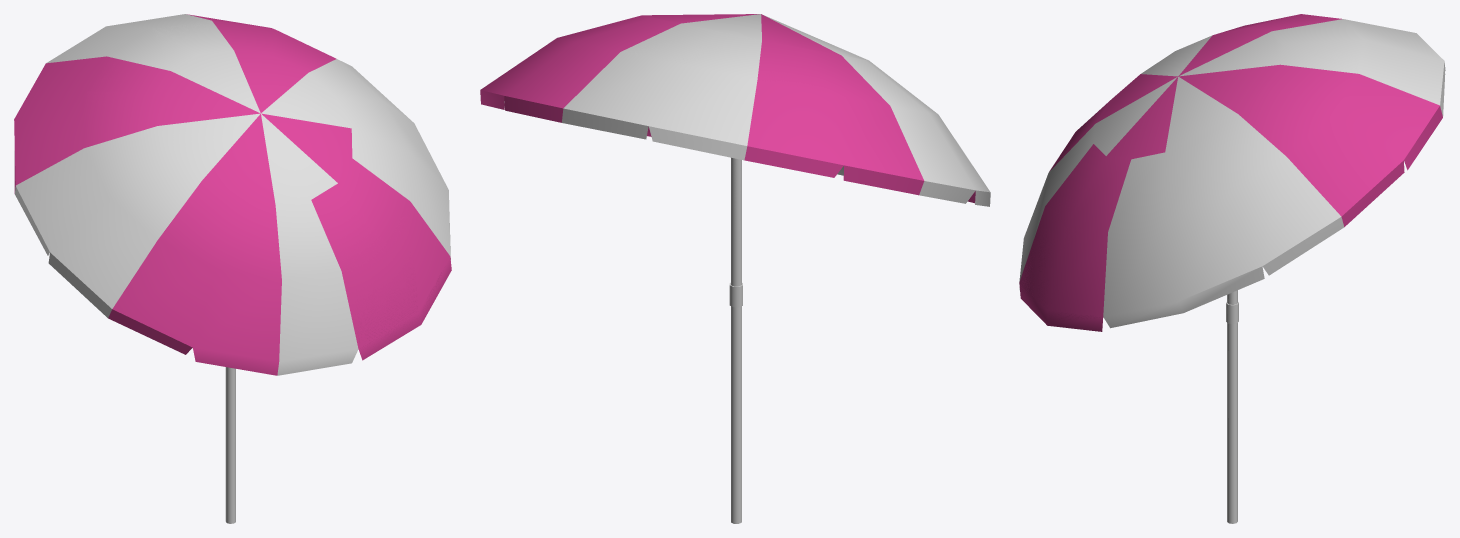
The model's file is umbrella-pink.glb.
The picture shows the model from 3 angles, left to right: view 1: azimuth 30°, elevation 25°; view 2: azimuth 150°, elevation 25°; view 3: azimuth 270°, elevation 25°; orthographic projection. The views are drawn at different scales.
Visible parts, largest first — view 1: umbrella-pink; view 2: umbrella-pink; view 3: umbrella-pink.
Part boxes in pixels (left/top/right/bottom): umbrella-pink: left=14, top=14, right=451, bottom=523; umbrella-pink: left=480, top=14, right=990, bottom=523; umbrella-pink: left=1019, top=14, right=1445, bottom=523.
Bounding box in the file's own units: 2.47 × 2.7 × 2.2.
